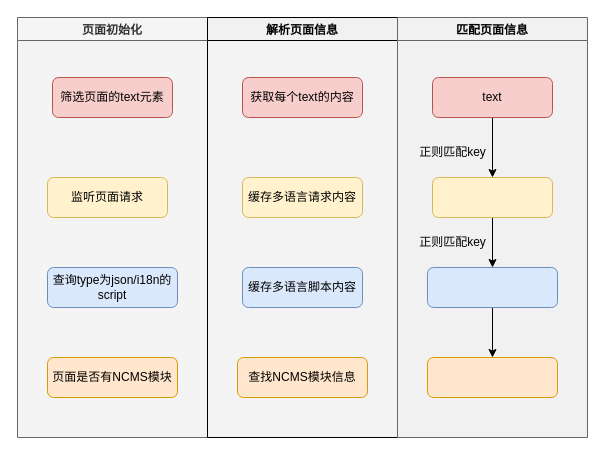
Some shapes in this 605 by 455 pixel diagram are drawn without their labels. Each missing label, with the centre of its shape:
"多语言脚本的内容" goes at point 492,287.
"请求返回体" goes at point 492,197.
"跳转对应模块" goes at point 492,377.
